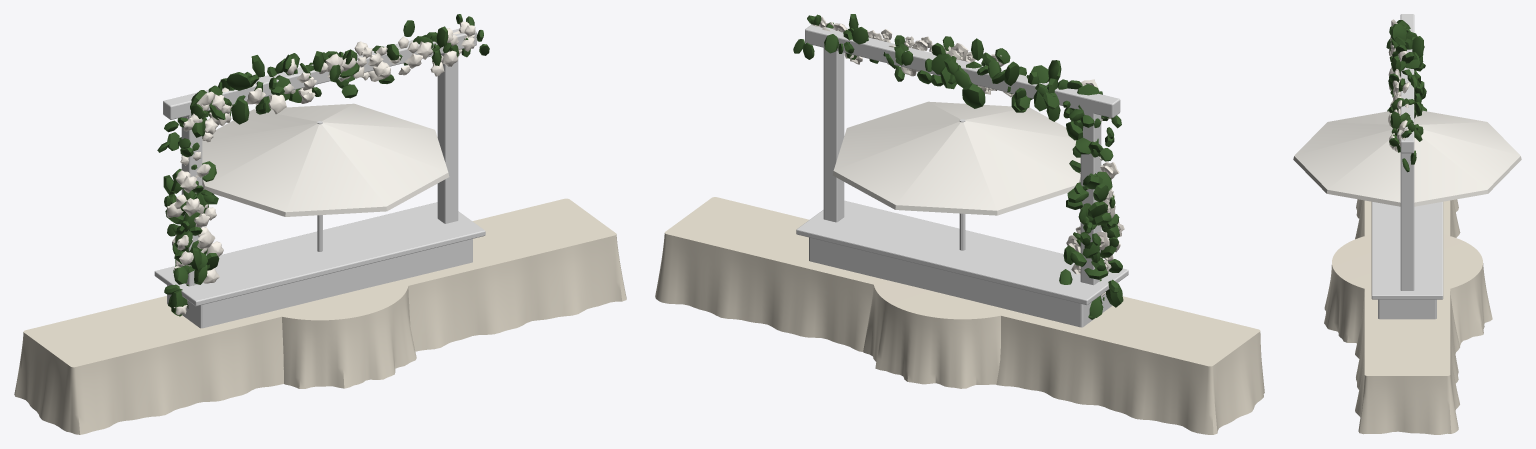
The model's file is props.glb.
3 views of the same model, side by side, from view 1: azimuth 30°, elevation 25°; view 2: azimuth 150°, elevation 25°; view 3: azimuth 270°, elevation 25° (orthographic). The views are drawn at different scales.
Visible parts, largest first — view 1: TableLong, Umbrella, Bar, TableRound, Arch_leaves, Arch_flowers, ArchWood; view 2: TableLong, Umbrella, Bar, Arch_leaves, TableRound, ArchWood, Arch_flowers; view 3: Umbrella, TableLong, TableRound, Bar, Arch_leaves, ArchWood, Arch_flowers.
Part boxes in pixels (bbox=[...]): TableLong: bbox=[14, 198, 626, 434]; Umbrella: bbox=[202, 103, 449, 216]; Bar: bbox=[154, 202, 485, 328]; TableRound: bbox=[267, 278, 416, 388]; Arch_leaves: bbox=[157, 14, 489, 316]; Arch_flowers: bbox=[166, 21, 475, 315]; ArchWood: bbox=[163, 29, 476, 286]; TableLong: bbox=[655, 197, 1264, 434]; Umbrella: bbox=[832, 101, 1080, 215]; Bar: bbox=[796, 200, 1128, 327]; Arch_leaves: bbox=[793, 14, 1123, 319]; TableRound: bbox=[863, 277, 1015, 388]; ArchWood: bbox=[805, 24, 1120, 285]; Arch_flowers: bbox=[812, 16, 1124, 296]; Umbrella: bbox=[1293, 110, 1521, 206]; TableLong: bbox=[1355, 199, 1460, 434]; TableRound: bbox=[1324, 234, 1492, 345]; Bar: bbox=[1371, 202, 1443, 319]; Arch_leaves: bbox=[1386, 20, 1426, 172]; ArchWood: bbox=[1400, 14, 1414, 290]; Arch_flowers: bbox=[1388, 19, 1409, 152].
Bounding box in the file's own units: 6.63 × 3.42 × 2.72.
